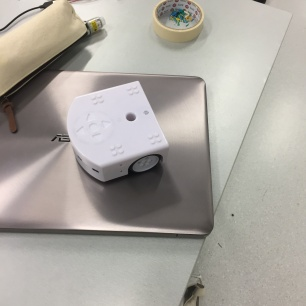thymio: (68, 77, 171, 185)
